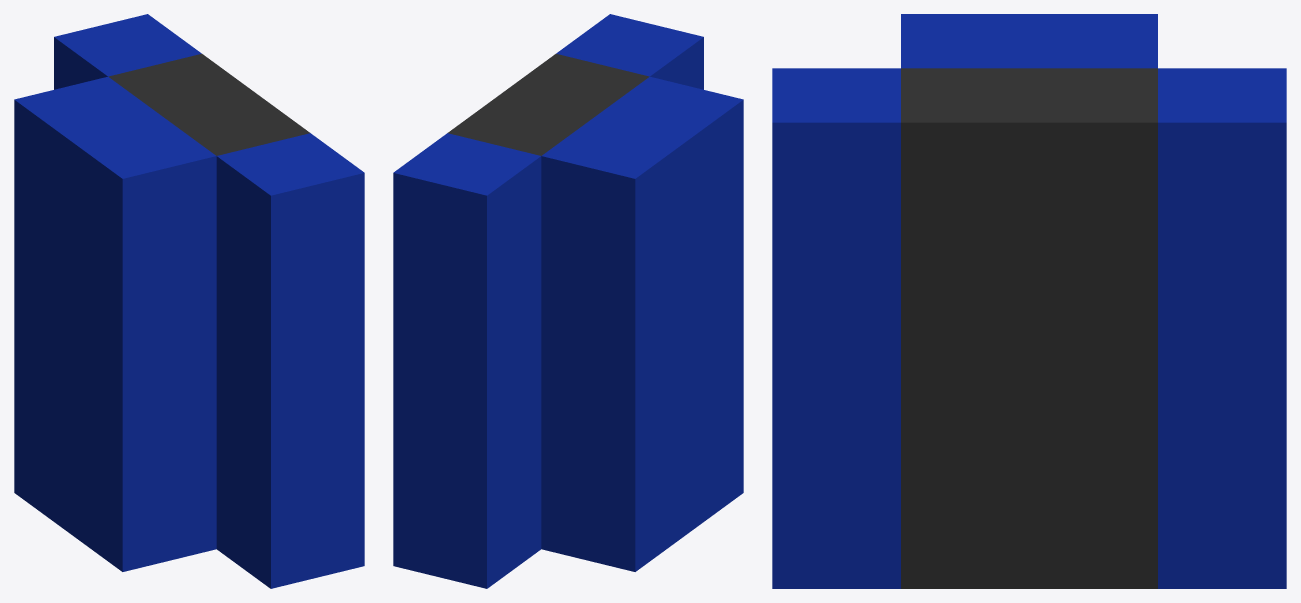
Rendered from endwall.gltf.
The picture shows the model from 3 angles, left to right: view 1: azimuth 30°, elevation 25°; view 2: azimuth 150°, elevation 25°; view 3: azimuth 270°, elevation 25°; orthographic projection. The views are drawn at different scales.
Visible parts, largest first — view 1: OuterEnd, InnerEnd; view 2: OuterEnd, InnerEnd; view 3: OuterEnd, InnerEnd.
Boxes of the visible parts, bbox=[...] form: OuterEnd: bbox=[14, 14, 364, 588]; InnerEnd: bbox=[108, 54, 309, 155]; OuterEnd: bbox=[393, 14, 743, 588]; InnerEnd: bbox=[448, 54, 649, 155]; OuterEnd: bbox=[772, 14, 1286, 588]; InnerEnd: bbox=[901, 68, 1157, 588].
Bounding box in the file's own units: 2 × 4 × 4.
2 materials, 2 textured.
